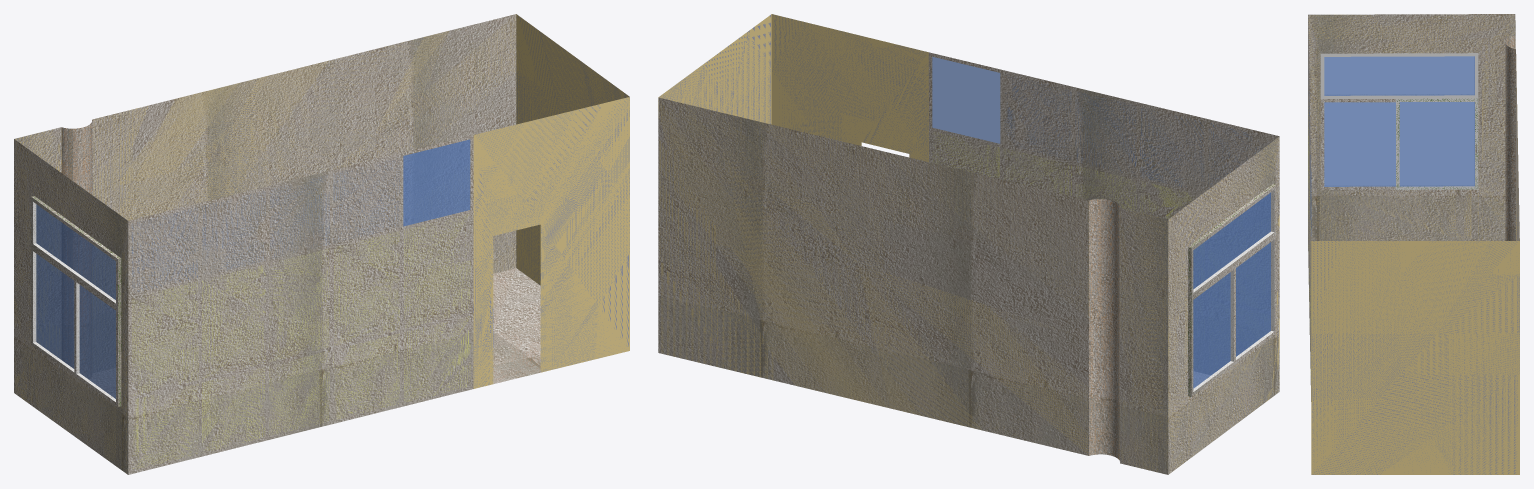
File: DES023.obj
3 renders of one model, left to right at view 1: azimuth 30°, elevation 25°; view 2: azimuth 150°, elevation 25°; view 3: azimuth 270°, elevation 25°, orthographic. The views are drawn at different scales.
Visible parts, largest first — view 1: Mesh7 DES023 Model, Mesh1 ventana1_2_1 DES023 Model; view 2: Mesh7 DES023 Model, Mesh1 ventana1_2_1 DES023 Model; view 3: Mesh7 DES023 Model, Mesh1 ventana1_2_1 DES023 Model.
Part boxes in pixels (x1,y1,x2,y2): Mesh7 DES023 Model: [14, 14, 629, 474]; Mesh1 ventana1_2_1 DES023 Model: [31, 196, 121, 407]; Mesh7 DES023 Model: [658, 14, 1279, 474]; Mesh1 ventana1_2_1 DES023 Model: [1188, 184, 1276, 396]; Mesh7 DES023 Model: [1308, 14, 1519, 474]; Mesh1 ventana1_2_1 DES023 Model: [1320, 53, 1478, 190].
Size of the model in its own units: 7.54 by 3.6 by 2.95.
10 materials, 2 textured.
